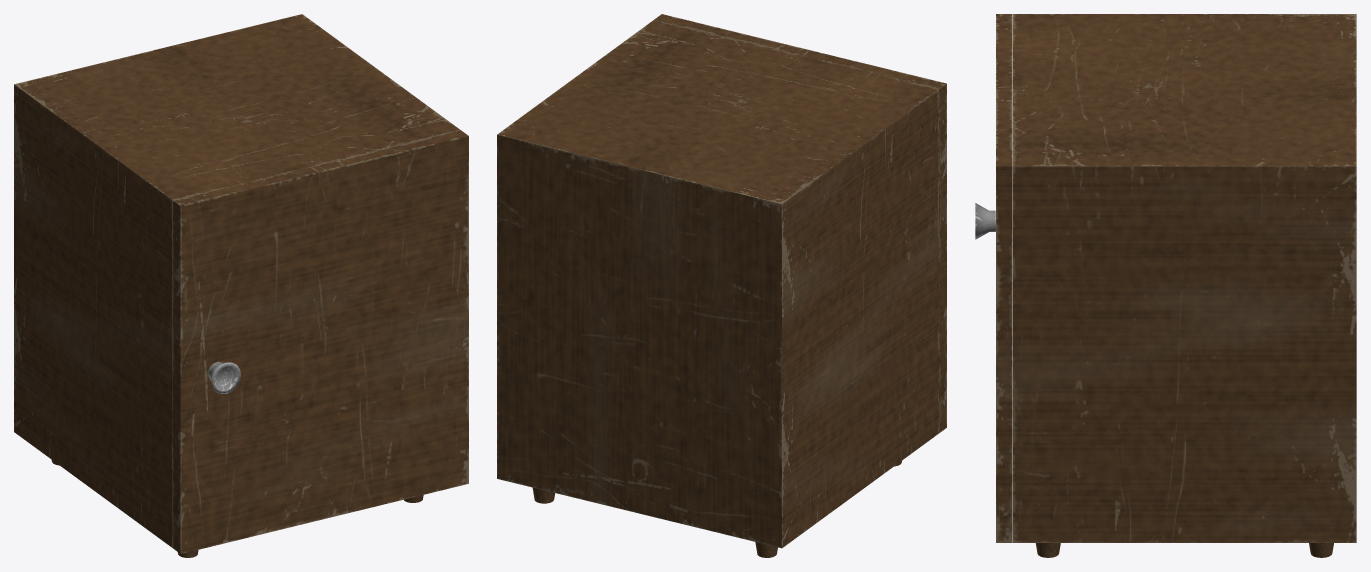
The model's file is cupboard_old_damaged.glb.
3 views of the same model, side by side, from view 1: azimuth 30°, elevation 25°; view 2: azimuth 150°, elevation 25°; view 3: azimuth 270°, elevation 25° (orthographic). The views are drawn at different scales.
Visible parts, largest first — view 1: Door, Cupboard, Handle; view 2: Cupboard, Door; view 3: Cupboard, Door, Handle.
Boxes of the visible parts, x1,y1,x2,y2 form: Door: (173,130,468,553); Cupboard: (14,14,460,557); Handle: (208,362,240,393); Cupboard: (497,20,938,557); Door: (654,14,946,433); Cupboard: (1013,14,1356,557); Door: (996,14,1012,542); Handle: (975,203,995,239).
Size of the model in its own units: 0.4351 by 0.5382 by 0.4607.
1 material, 1 textured.
